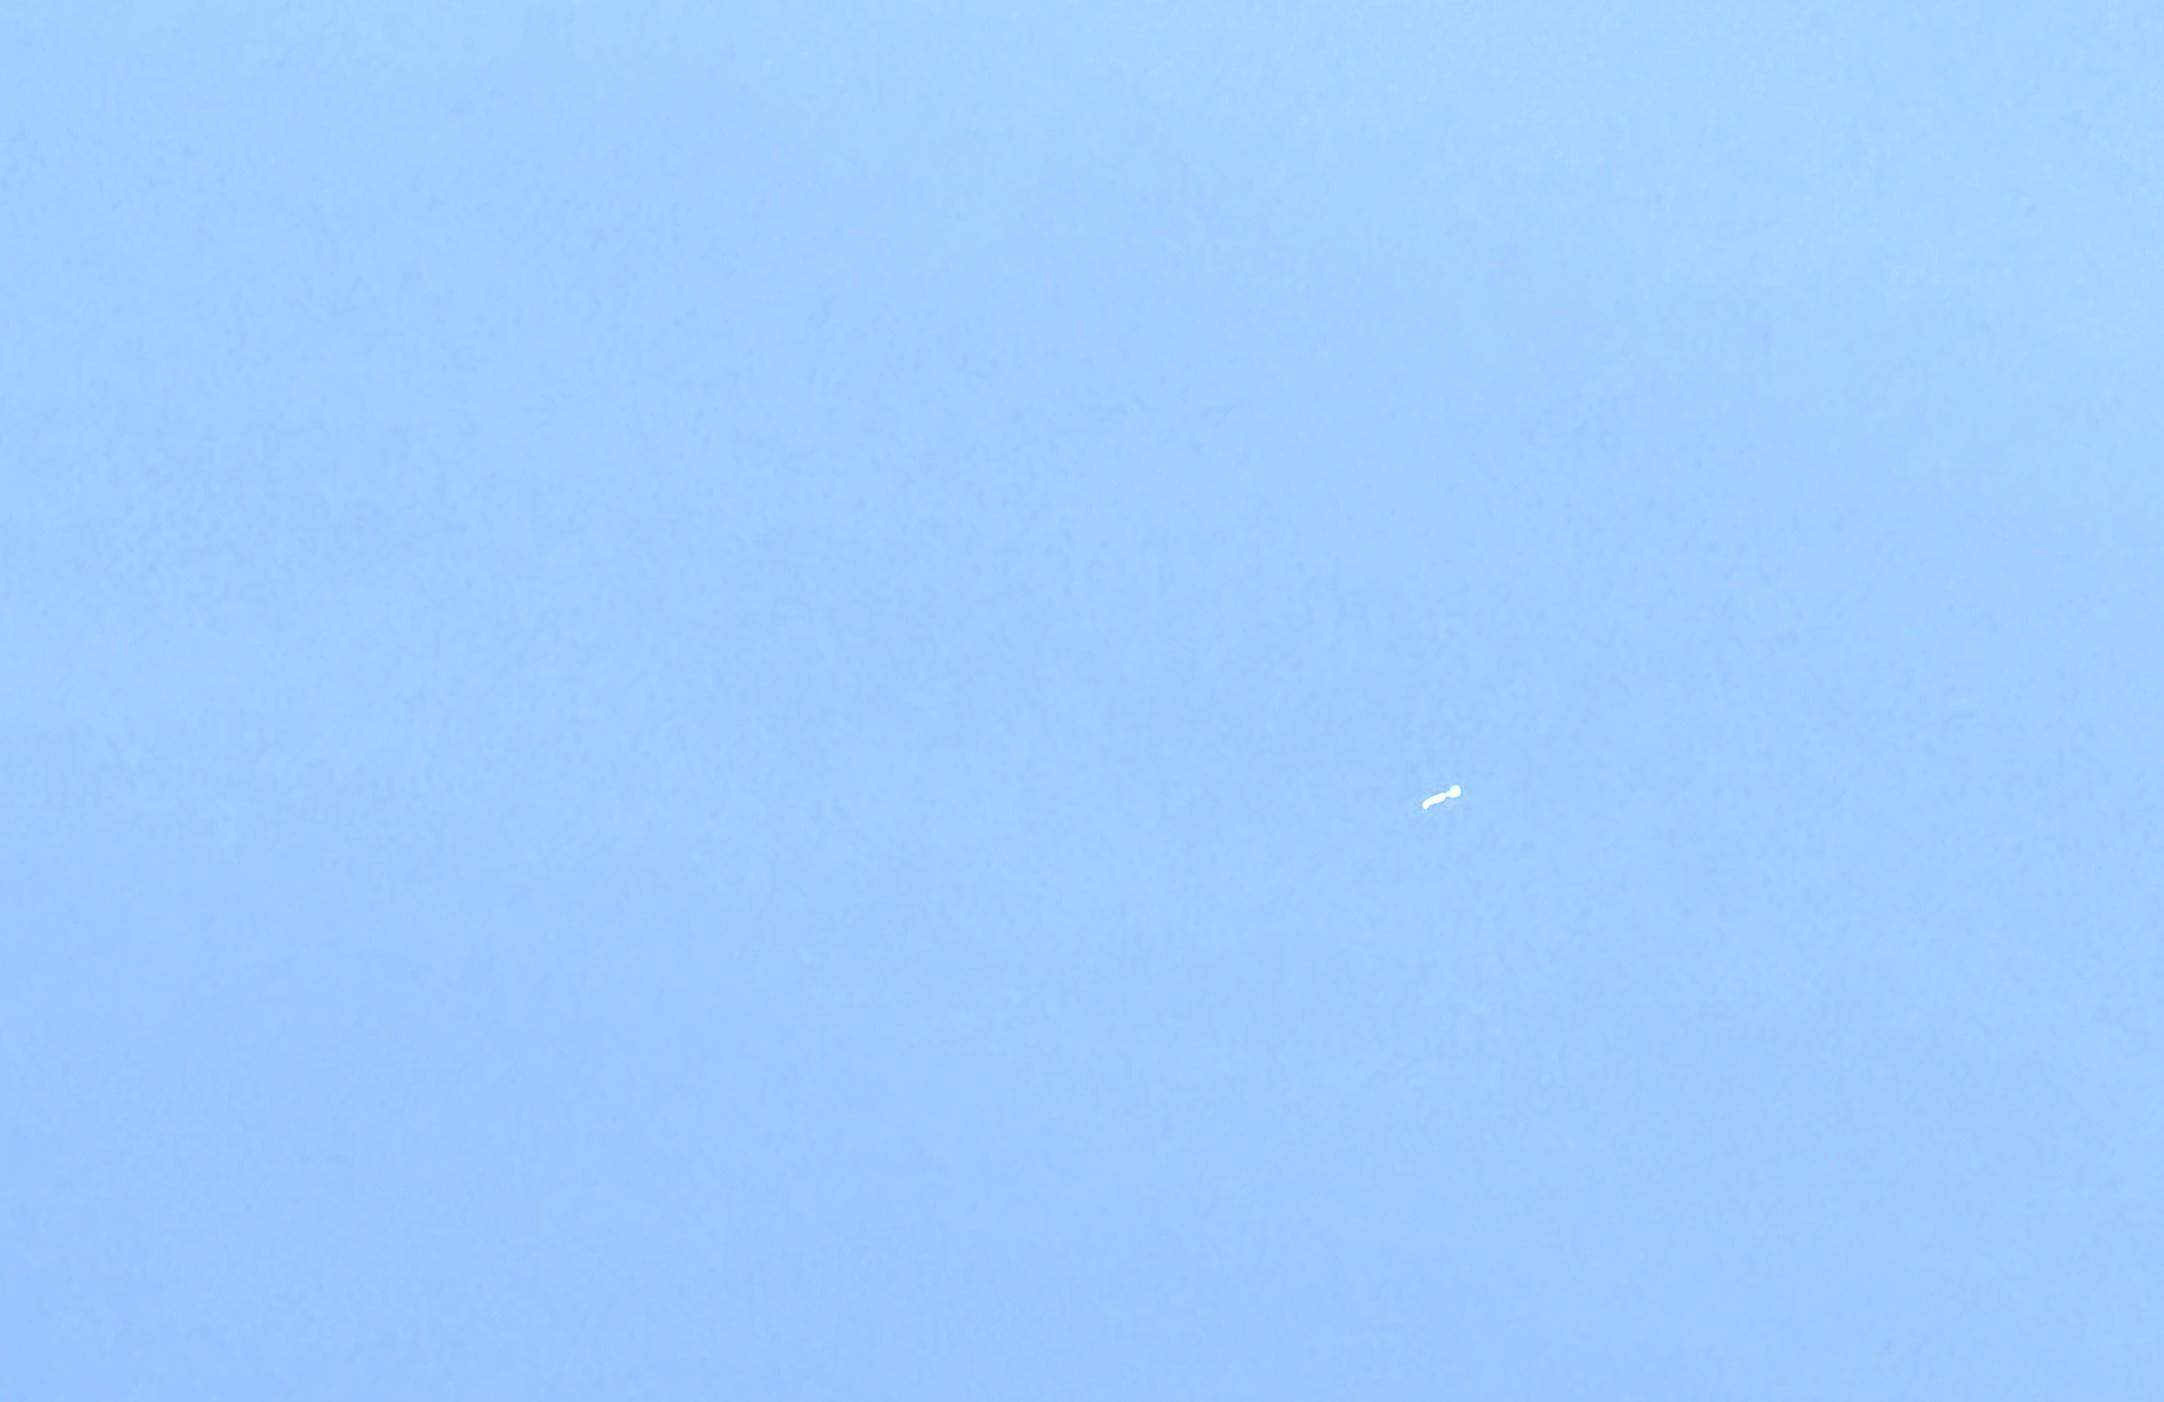Plane: (1382, 776, 1516, 842)
